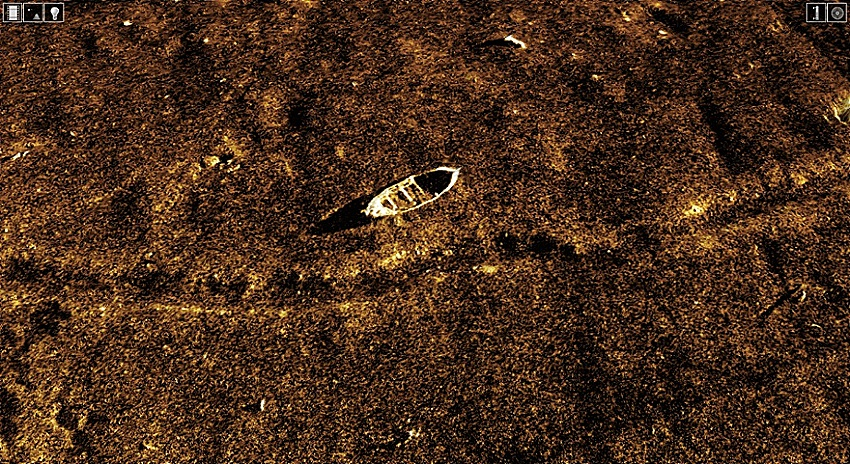ship: (359, 165, 463, 219)
